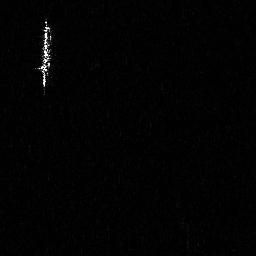ship: (35, 18, 53, 90)
